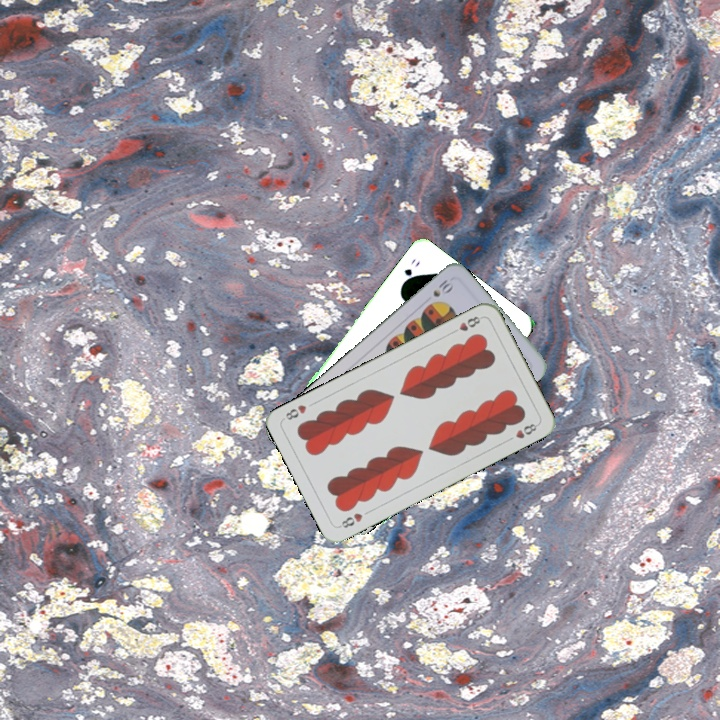GO: (398, 255, 423, 289)
H8: (447, 312, 485, 337), (335, 509, 365, 531)
S10: (429, 274, 456, 300)
